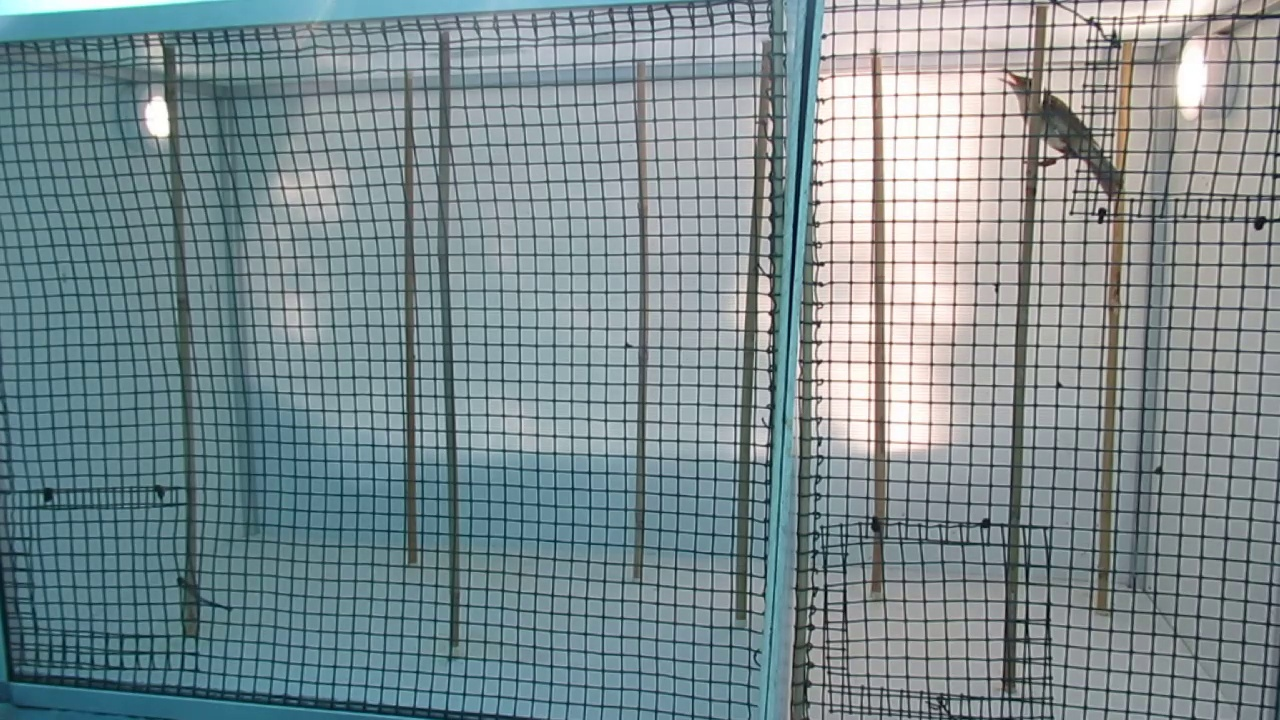bird: (998, 64, 1112, 207)
stick: (1002, 13, 1047, 684), (733, 46, 777, 617), (1093, 46, 1137, 606), (164, 42, 201, 623), (435, 35, 462, 641), (866, 59, 887, 588), (401, 78, 421, 564), (634, 62, 649, 577)
